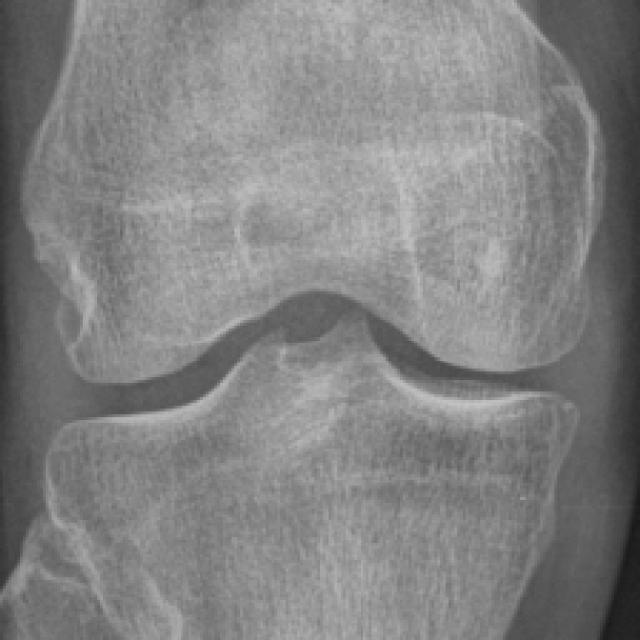femur: (19, 0, 606, 383)
tibia: (47, 323, 578, 640)
